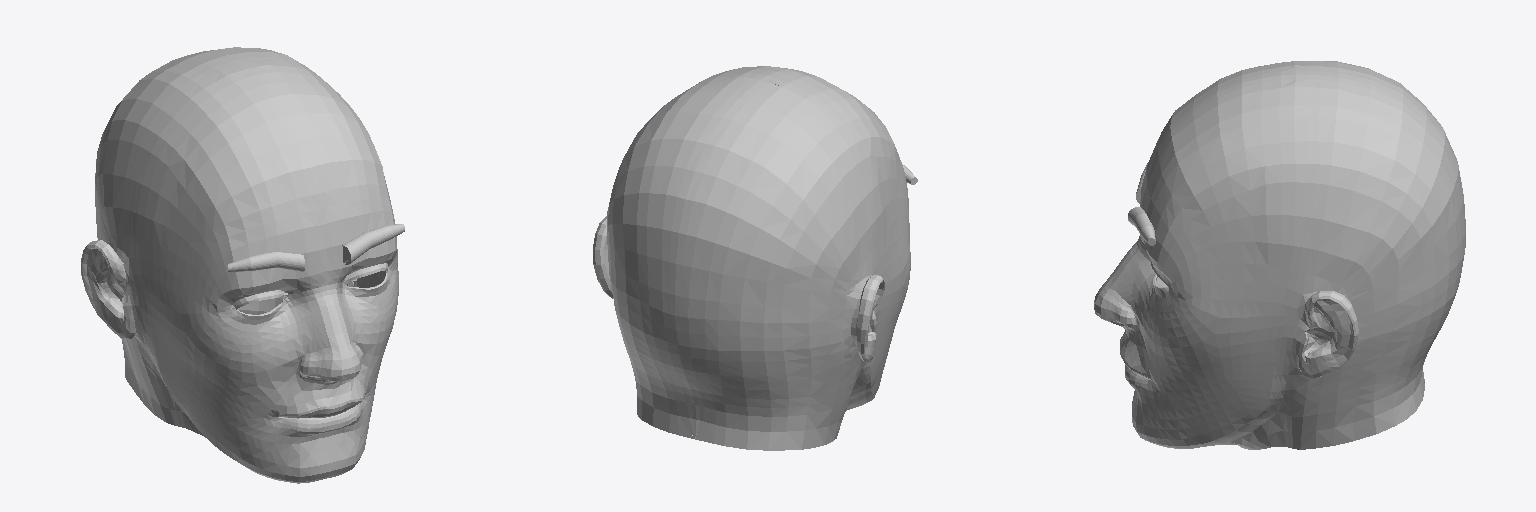
The picture shows the model from 3 angles: view 1: azimuth 30°, elevation 25°; view 2: azimuth 150°, elevation 25°; view 3: azimuth 270°, elevation 25°; orthographic projection.
Visible parts, largest first — view 1: male_head.obj, Cylinder, Cylinder.001; view 2: male_head.obj; view 3: male_head.obj, Cylinder.001.
Boxes of the visible parts, <box> form: male_head.obj: <box>81,47,398,483</box>; Cylinder: <box>228,252,304,271</box>; Cylinder.001: <box>342,224,404,264</box>; male_head.obj: <box>593,66,910,450</box>; male_head.obj: <box>1094,61,1465,449</box>; Cylinder.001: <box>1128,207,1155,245</box>.
Size of the model in its own units: 3.06 by 3.82 by 3.54.